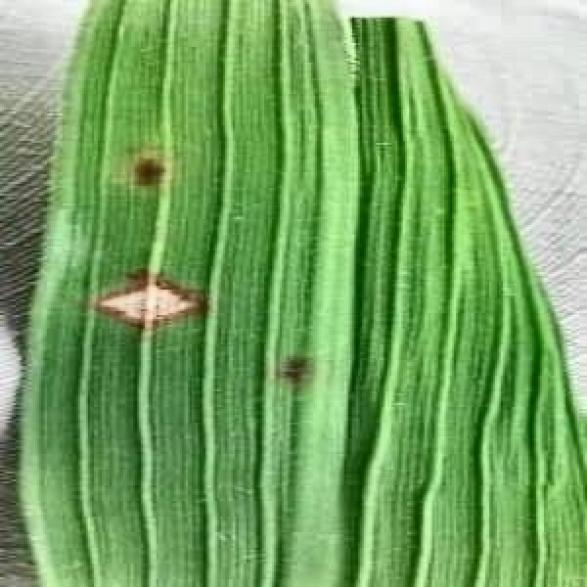Leaf_smut: (70, 141, 323, 378)
